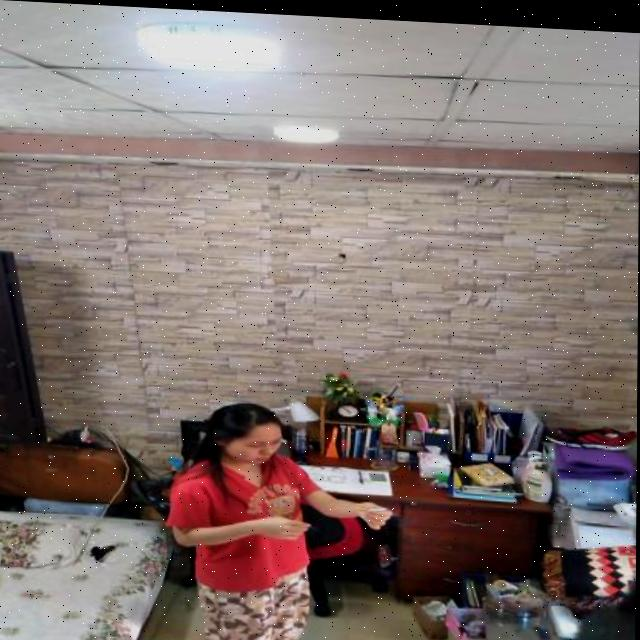cigarette: (356, 503, 391, 508)
